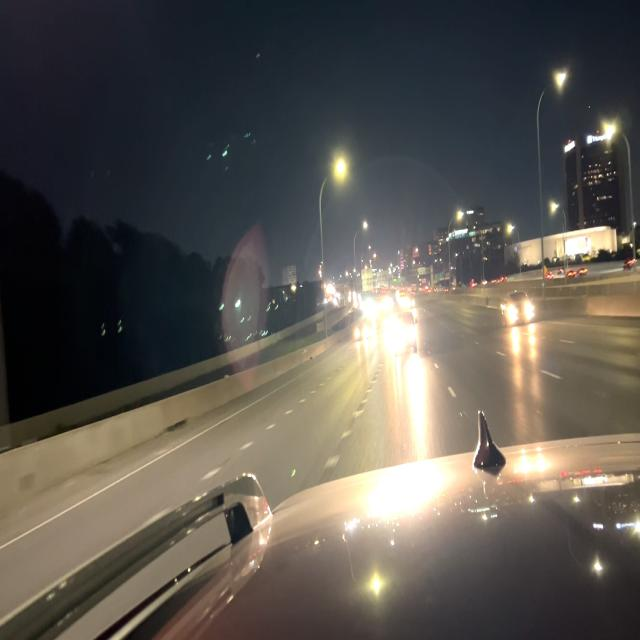back-of-sign: (361, 268, 391, 295)
